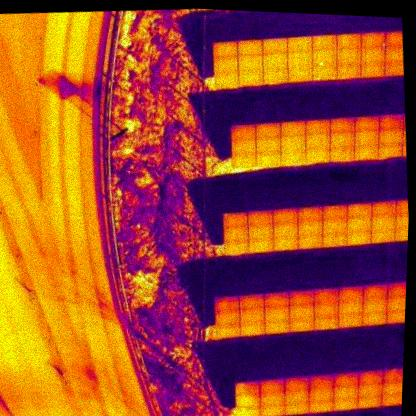Hotspot: (312, 48, 338, 68), (313, 313, 340, 332), (222, 211, 249, 229), (360, 31, 386, 49), (336, 62, 362, 80), (312, 65, 338, 83), (362, 298, 389, 313), (381, 382, 403, 396)
Normal: (261, 37, 288, 57), (212, 40, 239, 60), (330, 130, 356, 150), (335, 31, 361, 51), (378, 112, 405, 131), (255, 122, 282, 141), (230, 124, 257, 143), (377, 141, 404, 160), (286, 35, 313, 54), (236, 38, 263, 57), (279, 120, 307, 138), (304, 133, 332, 151), (246, 209, 274, 227), (280, 134, 307, 152), (255, 136, 282, 154), (346, 202, 373, 220), (321, 203, 348, 221), (297, 205, 324, 223), (335, 47, 362, 65), (286, 52, 313, 70), (237, 54, 264, 72), (287, 66, 314, 84), (237, 69, 264, 87), (354, 115, 380, 133), (354, 129, 380, 147), (273, 221, 299, 239), (264, 317, 290, 335), (312, 34, 338, 52), (333, 372, 359, 390), (359, 60, 385, 78), (304, 119, 331, 136), (329, 146, 356, 163), (272, 208, 299, 225), (322, 231, 349, 248), (362, 284, 389, 301), (238, 294, 265, 311), (357, 369, 384, 386), (356, 382, 383, 399), (359, 46, 386, 63), (232, 152, 257, 170), (263, 68, 288, 86), (378, 128, 404, 145), (256, 151, 282, 168), (297, 220, 323, 237), (223, 225, 249, 242), (346, 229, 372, 246), (273, 235, 299, 252), (248, 237, 274, 254), (223, 239, 249, 256), (214, 296, 240, 313), (362, 310, 388, 327), (289, 315, 315, 332), (262, 54, 288, 71), (214, 71, 240, 88), (230, 139, 257, 155), (304, 149, 331, 165), (346, 216, 373, 232), (321, 218, 348, 234), (337, 287, 364, 303), (288, 290, 315, 306), (313, 301, 340, 317), (239, 307, 266, 323), (337, 312, 364, 328), (239, 320, 266, 336), (308, 399, 335, 415), (330, 117, 355, 134), (354, 144, 379, 161), (371, 200, 396, 217), (371, 214, 396, 231), (370, 227, 395, 244), (216, 323, 241, 340), (214, 57, 239, 74), (248, 224, 274, 240), (313, 288, 339, 304), (264, 292, 290, 308), (337, 300, 363, 316), (264, 305, 290, 321), (215, 310, 241, 326), (258, 378, 284, 394), (234, 380, 260, 396), (332, 385, 358, 401), (332, 397, 358, 413), (284, 400, 310, 416), (283, 376, 310, 391), (283, 389, 310, 404), (298, 233, 323, 249), (309, 375, 334, 391), (280, 150, 306, 165), (289, 304, 315, 319), (308, 387, 334, 402), (235, 393, 261, 408), (356, 395, 382, 409), (381, 369, 403, 385), (259, 403, 286, 416), (259, 392, 284, 405), (379, 392, 402, 406), (384, 46, 404, 62), (384, 59, 404, 75), (387, 282, 406, 298), (386, 308, 405, 324), (386, 297, 406, 311), (385, 32, 403, 47), (236, 405, 260, 416)
